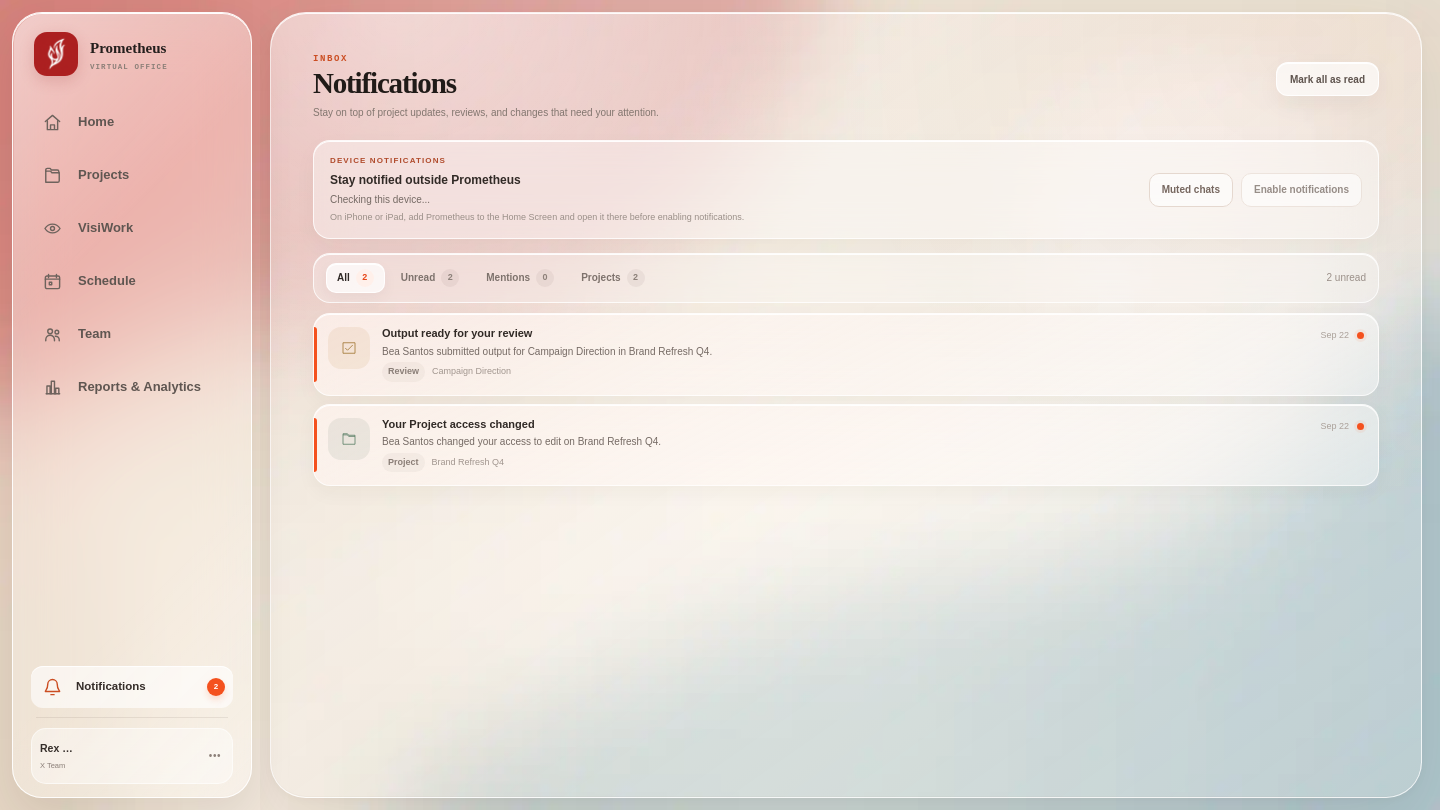
Test: AppShell notification utility badge › returns to Home when the workspace brand is clicked from another page
The width and height of the screenshot is (1440, 810).
Expected: the heading "Notifications" is shown, 313,67 -> 456,99
Click the link with aria-label "Prometheus Virtual Office, go to Home" at (101, 54), box 34,32 -> 168,76
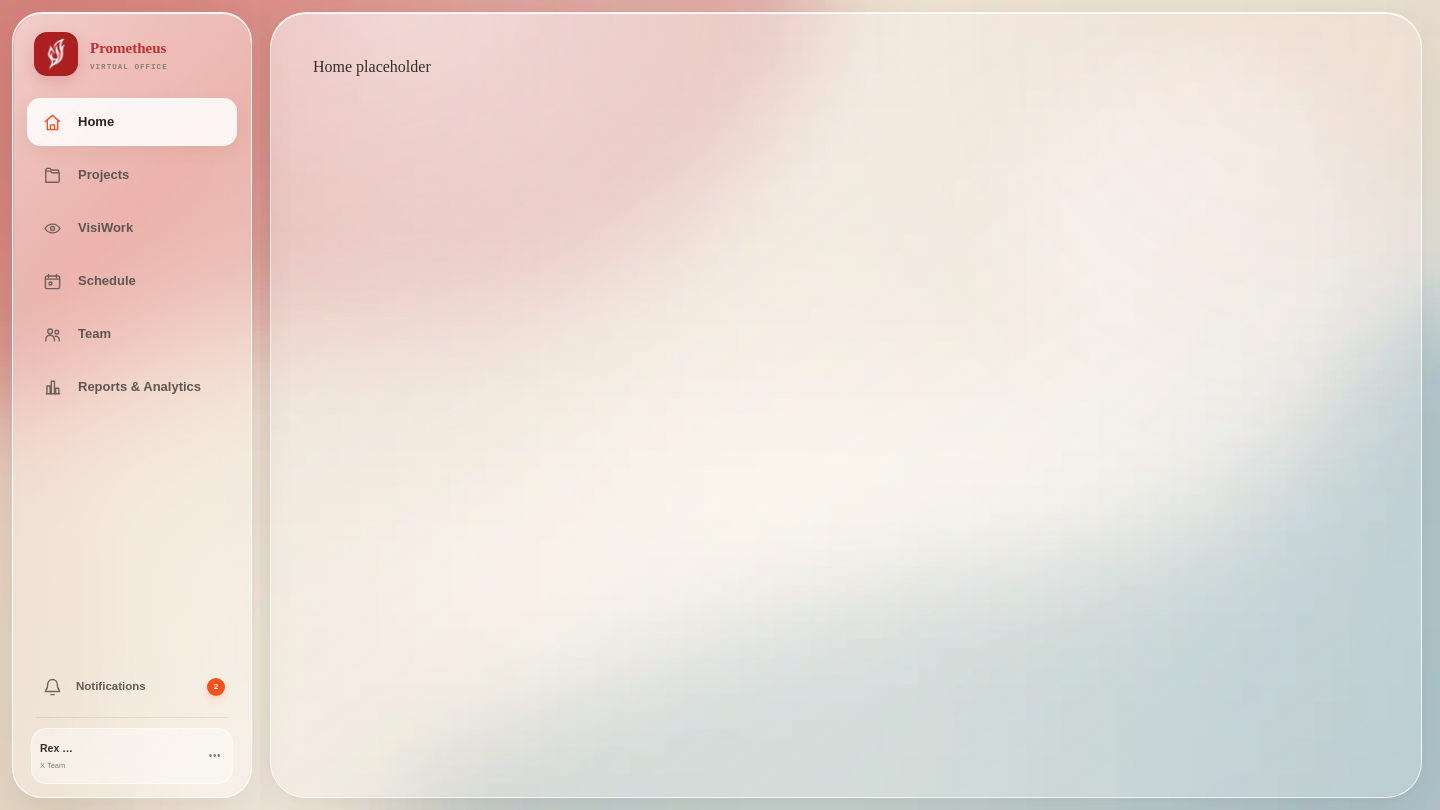
Expected: the heading "Home placeholder" is shown, 313,58 -> 431,75
